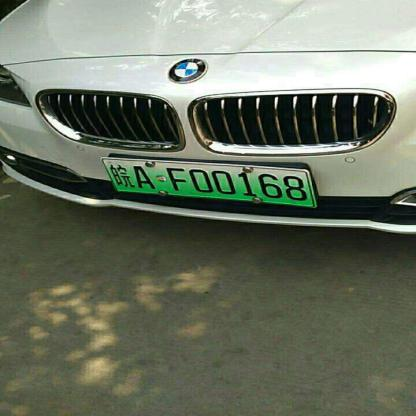lp: (103, 159, 314, 207)
